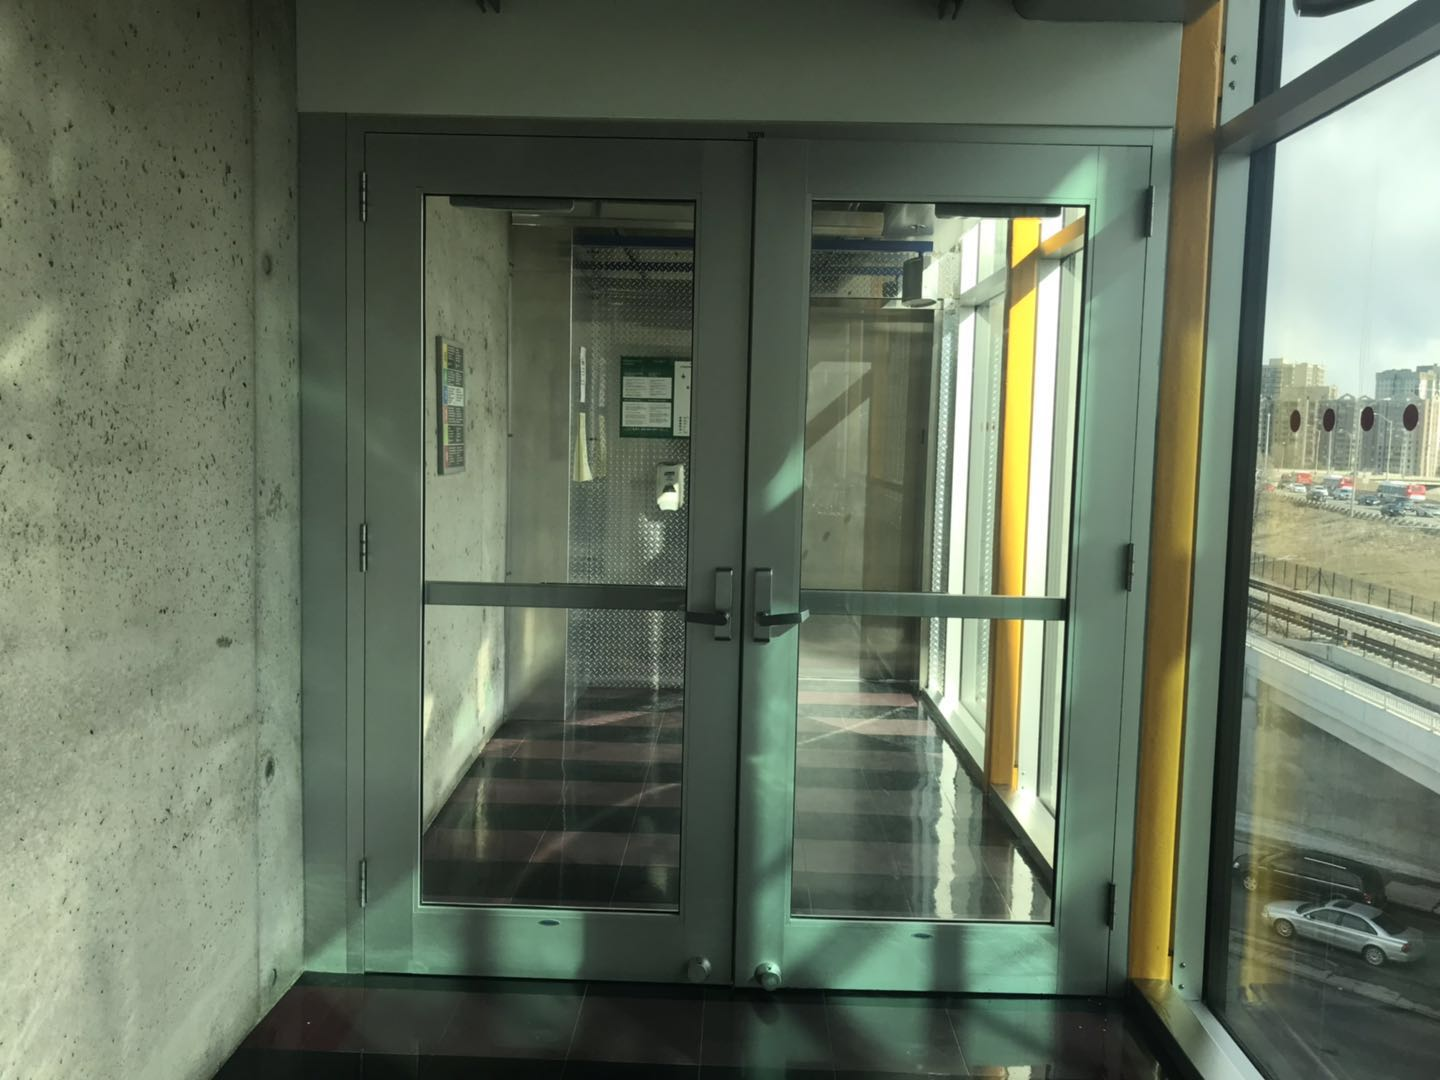door: (63, 75, 998, 1080)
person: (155, 576, 232, 727)
sign: (196, 415, 232, 460), (246, 419, 279, 458), (260, 460, 291, 482)
